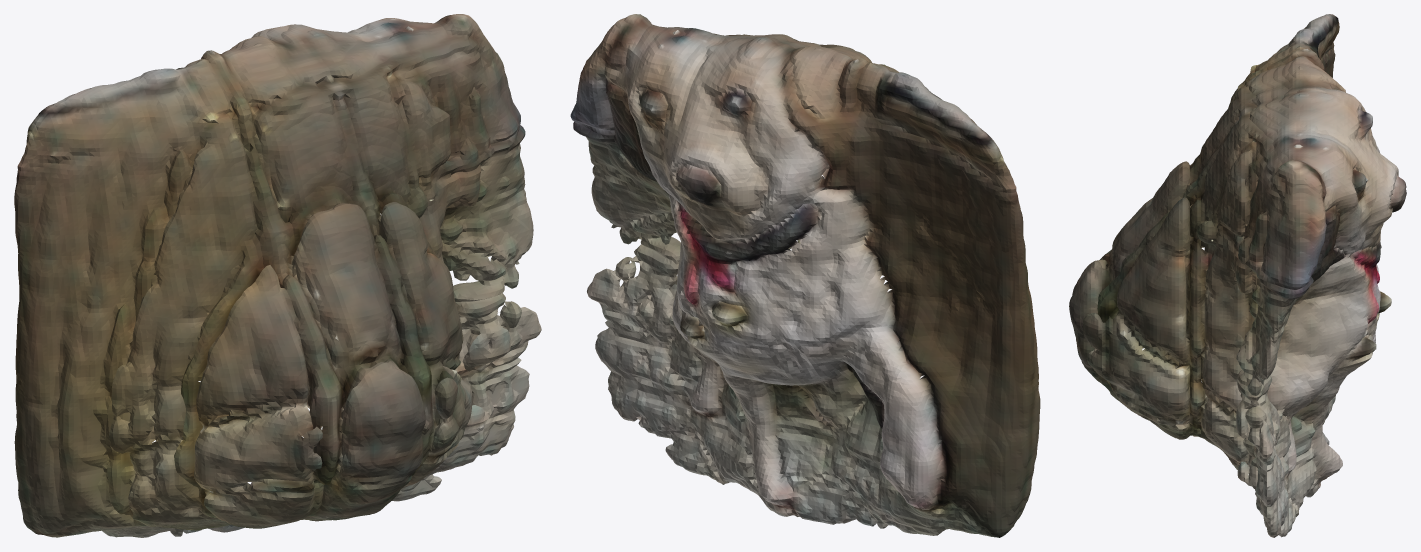
The model's file is temp_45cde6e6-d1db-4e6a-b0c8-5ed5079a6597_1754523821657.glb.
The picture shows the model from 3 angles, left to right: view 1: azimuth 30°, elevation 25°; view 2: azimuth 150°, elevation 25°; view 3: azimuth 270°, elevation 25°; orthographic projection. The views are drawn at different scales.
Visible parts, largest first — view 1: world; view 2: world; view 3: world.
Boxes of the visible parts, x1,y1,x2,y2 form: world: (14, 14, 541, 537); world: (570, 14, 1040, 537); world: (1069, 14, 1406, 537).
Bounding box in the file's own units: 0.8946 × 0.85 × 0.6286.
